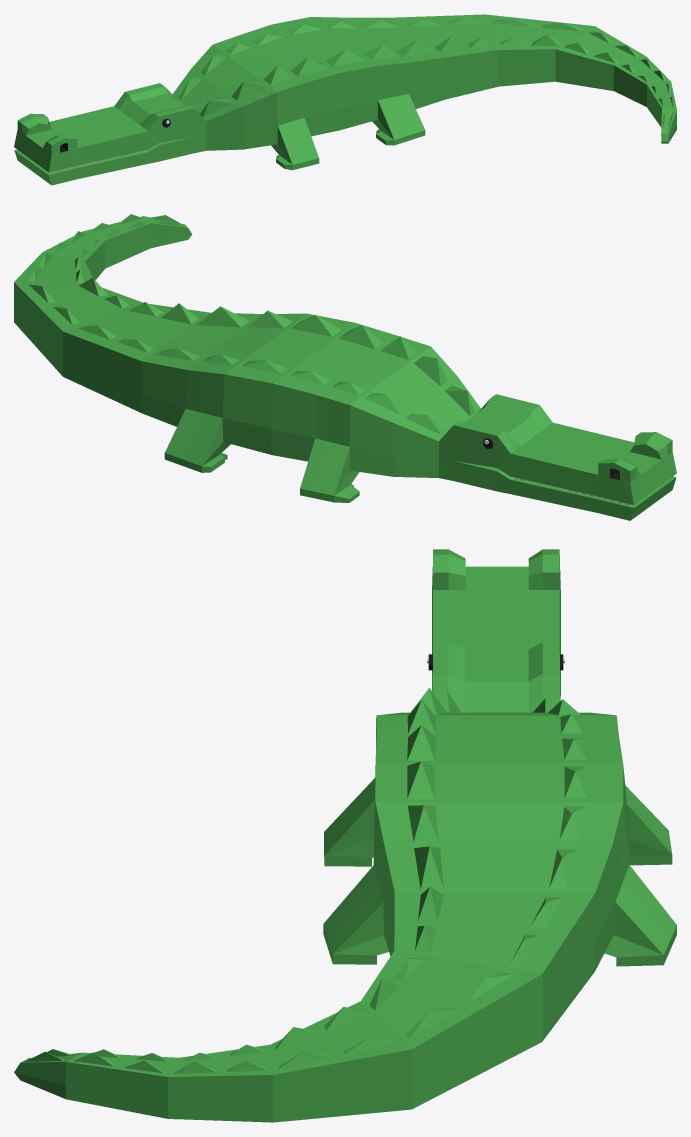
The model's file is Crocodile_01.obj.
3 renders of one model, top to bottom at view 1: azimuth 30°, elevation 25°; view 2: azimuth 150°, elevation 25°; view 3: azimuth 270°, elevation 25°, orthographic. The views are drawn at different scales.
Visible parts, largest first — view 1: Plane; view 2: Plane; view 3: Plane.
Boxes of the visible parts, <box> form: Plane: <box>14,14,676,185</box>; Plane: <box>14,214,676,520</box>; Plane: <box>14,549,676,1122</box>.
Size of the model in its own units: 1279 by 189 by 715.
